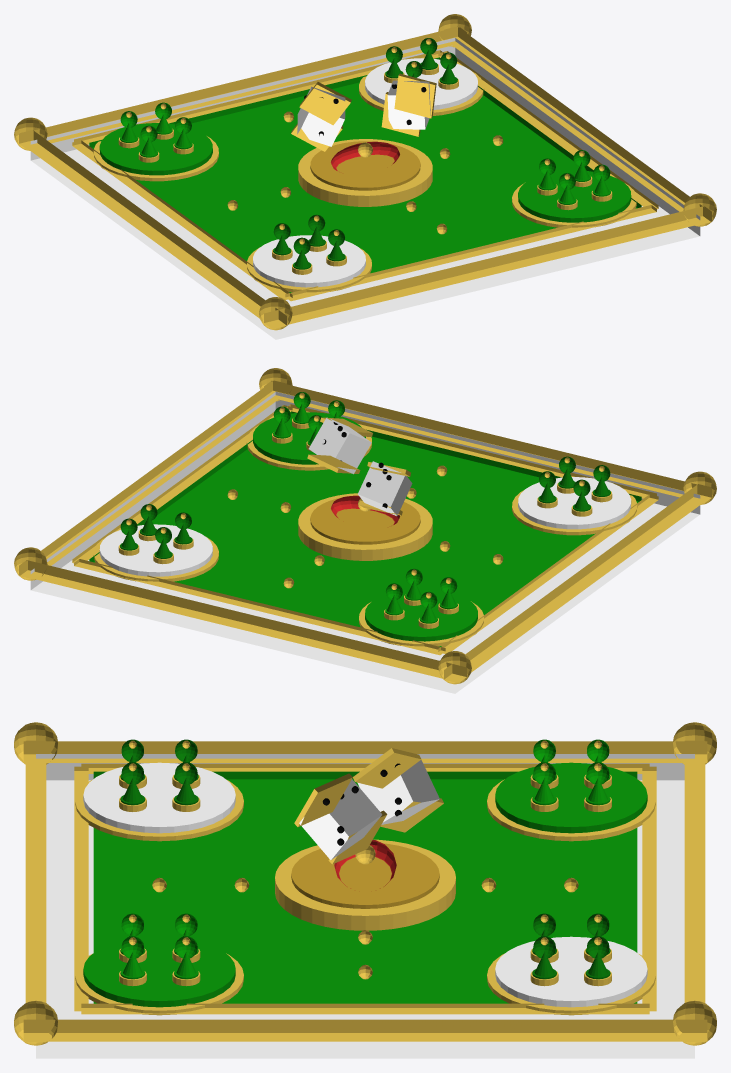
File: Nigeria_Ludo_Two_Dice.glb
The picture shows the model from 3 angles, top to bottom: view 1: azimuth 30°, elevation 25°; view 2: azimuth 150°, elevation 25°; view 3: azimuth 270°, elevation 25°; orthographic projection. The views are drawn at different scales.
Visible parts, largest first — view 1: part_9, part_0, part_1, part_2, part_4, part_3, part_15, part_28, part_94, part_72, part_14, part_10 (+14 smaller); view 2: part_9, part_0, part_2, part_1, part_4, part_3, part_72, part_50, part_28, part_15, part_14, part_11 (+11 smaller); view 3: part_9, part_0, part_3, part_4, part_15, part_28, part_72, part_50, part_94, part_14, part_2, part_1 (+19 smaller).
Boxes of the visible parts, x1=… form: part_9: x1=89, y1=57, x2=641, y2=292; part_0: x1=30, y1=37, x2=700, y2=339; part_1: x1=264, y1=206, x2=711, y2=328; part_2: x1=19, y1=26, x2=466, y2=149; part_4: x1=19, y1=130, x2=286, y2=328; part_3: x1=444, y1=26, x2=711, y2=225; part_15: x1=310, y1=141, x2=420, y2=190; part_28: x1=99, y1=123, x2=212, y2=175; part_94: x1=518, y1=170, x2=631, y2=222; part_72: x1=253, y1=235, x2=365, y2=287; part_14: x1=298, y1=139, x2=432, y2=206; part_10: x1=285, y1=205, x2=656, y2=301; part_9: x1=89, y1=411, x2=641, y2=646; part_0: x1=30, y1=391, x2=700, y2=693; part_2: x1=19, y1=560, x2=466, y2=682; part_1: x1=264, y1=380, x2=711, y2=503; part_4: x1=444, y1=484, x2=711, y2=682; part_3: x1=19, y1=380, x2=286, y2=579; part_72: x1=518, y1=477, x2=631, y2=529; part_50: x1=99, y1=524, x2=212, y2=576; part_28: x1=365, y1=589, x2=477, y2=641; part_15: x1=310, y1=495, x2=420, y2=544; part_14: x1=298, y1=493, x2=432, y2=560; part_11: x1=74, y1=559, x2=445, y2=655; part_9: x1=93, y1=771, x2=637, y2=1003; part_0: x1=36, y1=754, x2=694, y2=1058; part_3: x1=23, y1=1019, x2=707, y2=1041; part_4: x1=23, y1=741, x2=707, y2=762; part_15: x1=291, y1=843, x2=439, y2=908; part_28: x1=495, y1=762, x2=647, y2=833; part_72: x1=83, y1=762, x2=235, y2=833; part_50: x1=495, y1=936, x2=647, y2=1007; part_94: x1=83, y1=936, x2=235, y2=1007; part_14: x1=275, y1=839, x2=455, y2=930; part_2: x1=684, y1=740, x2=705, y2=1042; part_1: x1=25, y1=740, x2=46, y2=1042.
Size of the model in its own units: 17.1 by 4.41 by 17.07.
